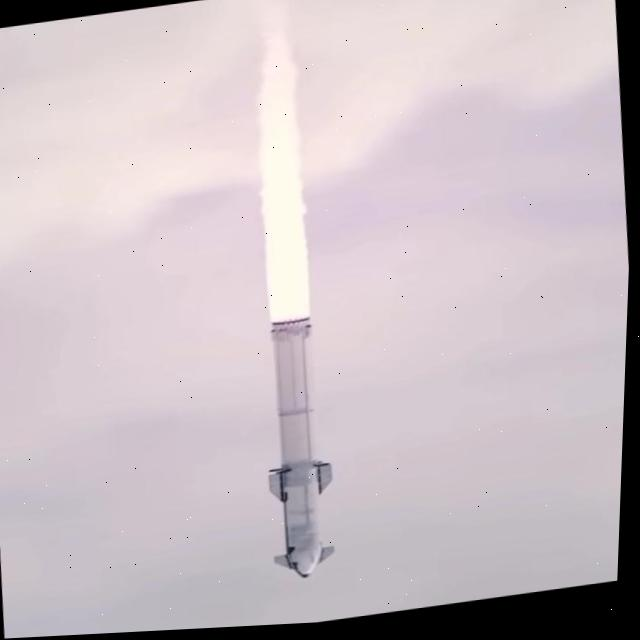missile: (253, 316, 346, 582)
